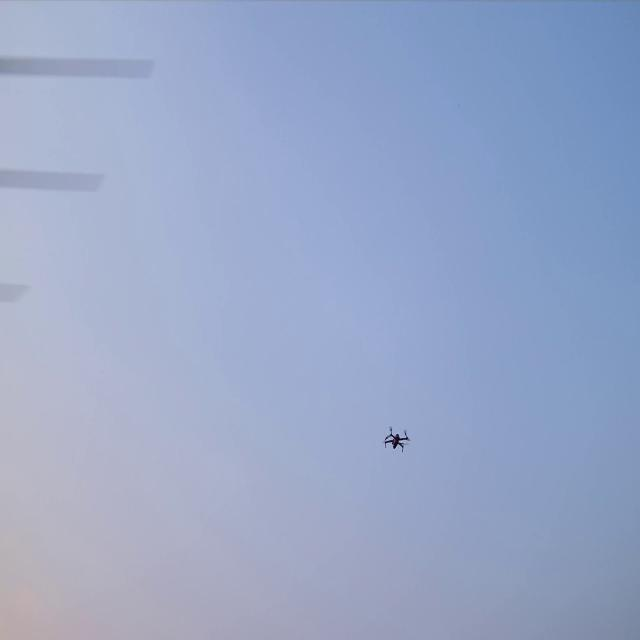UAV: (382, 423, 412, 456)
